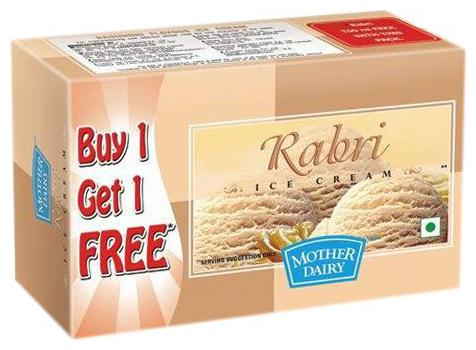Mother_Dairy: (270, 228, 372, 291)
